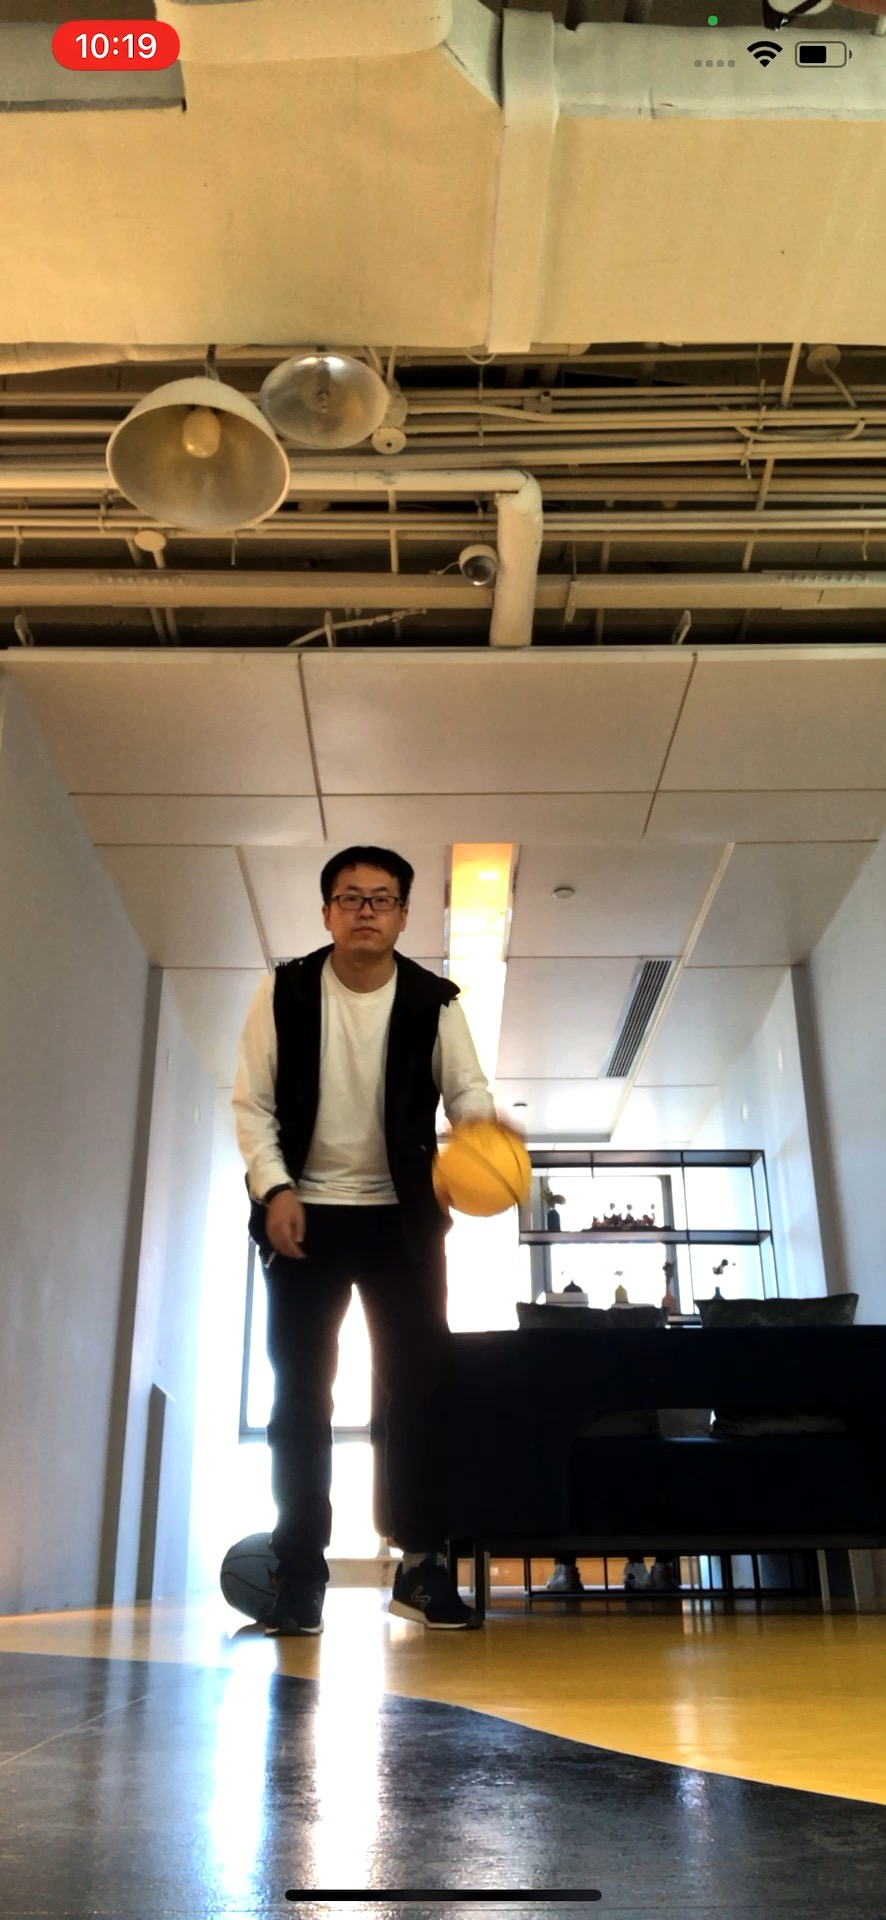ball: (431, 1119, 537, 1221), (221, 1533, 286, 1625)
